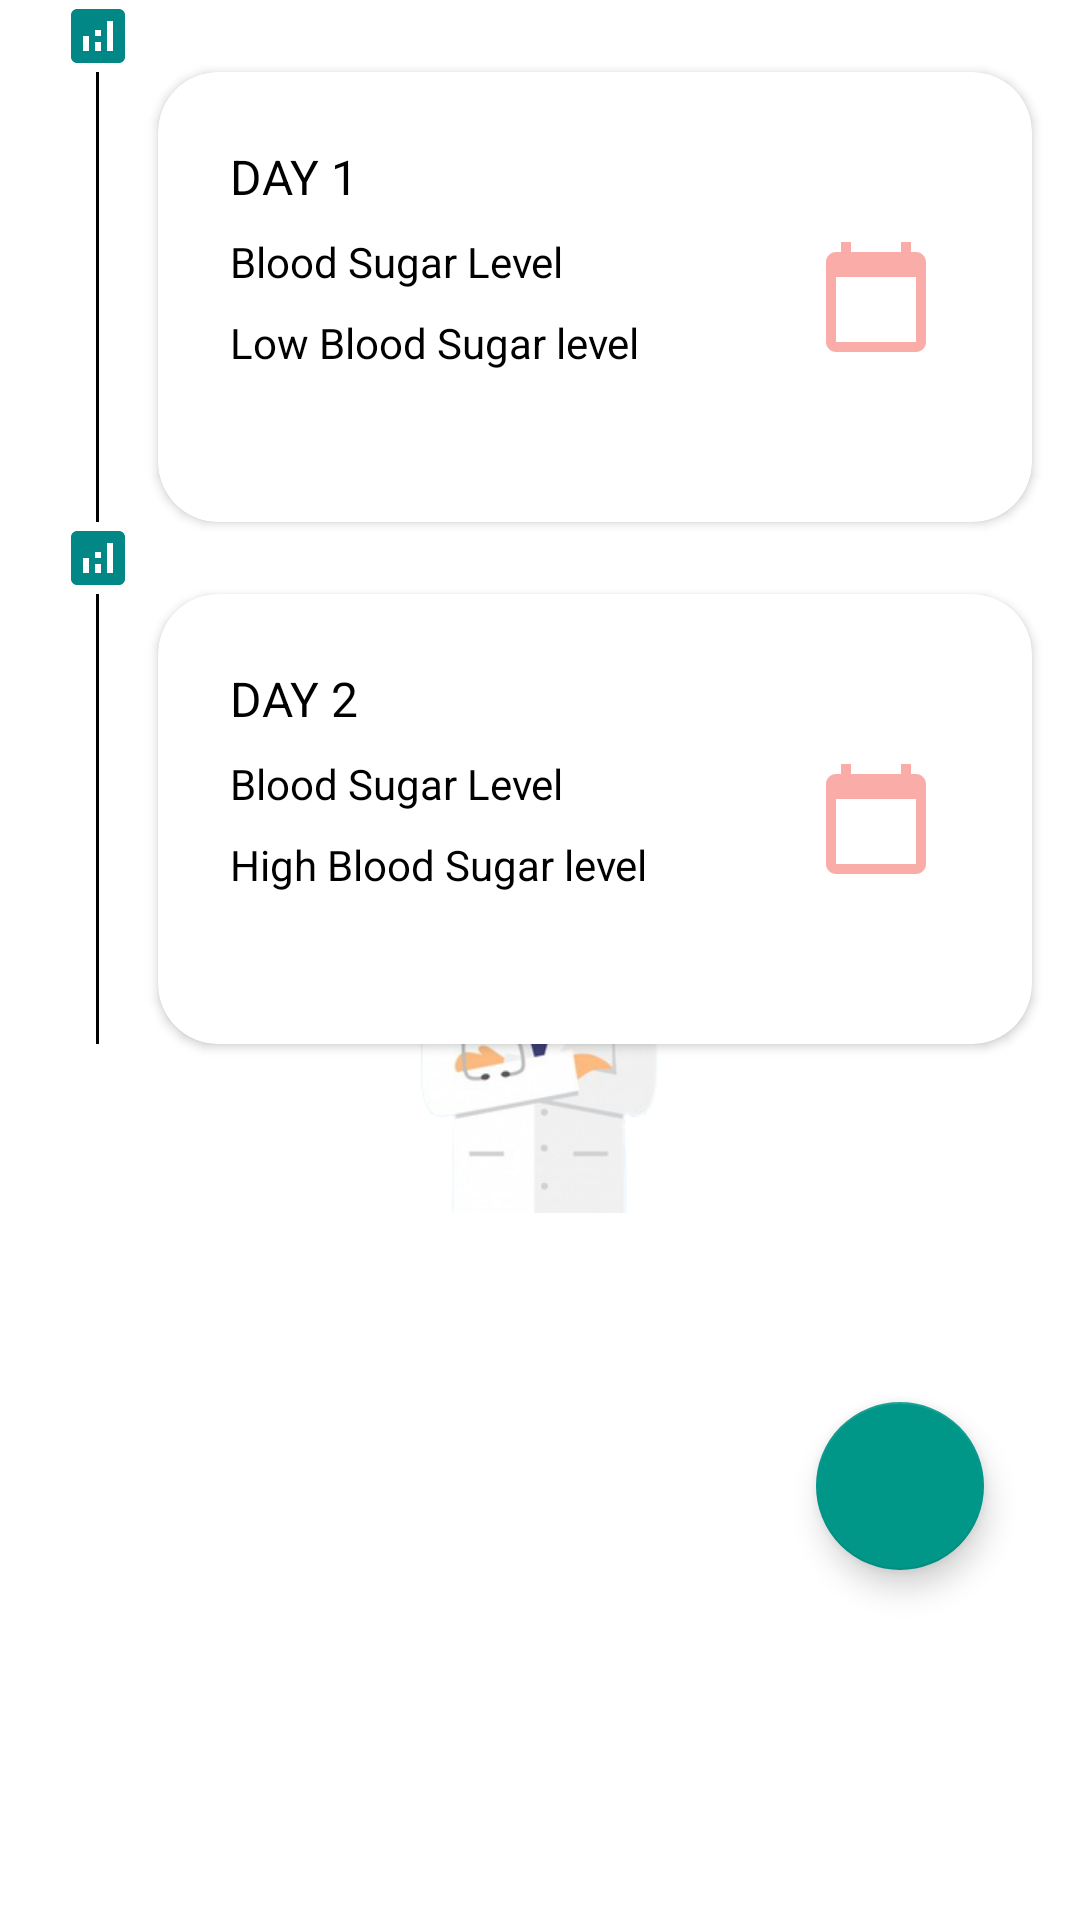

Icon bounding boxes for this 1080 x 1920 phone screenshot, format (x1, y1, x2, y2):
analytics: (71, 9, 125, 63), (71, 531, 125, 585)
calender: (826, 242, 926, 352), (826, 764, 926, 874)
